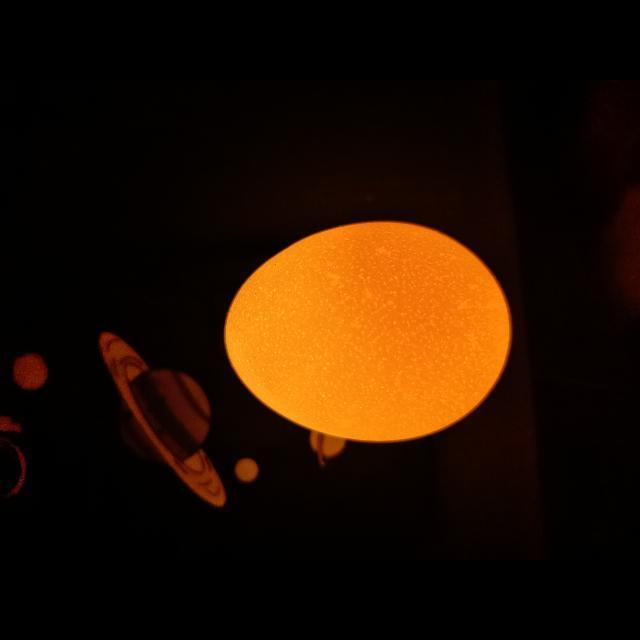AA - Premium: (225, 221, 511, 443)
